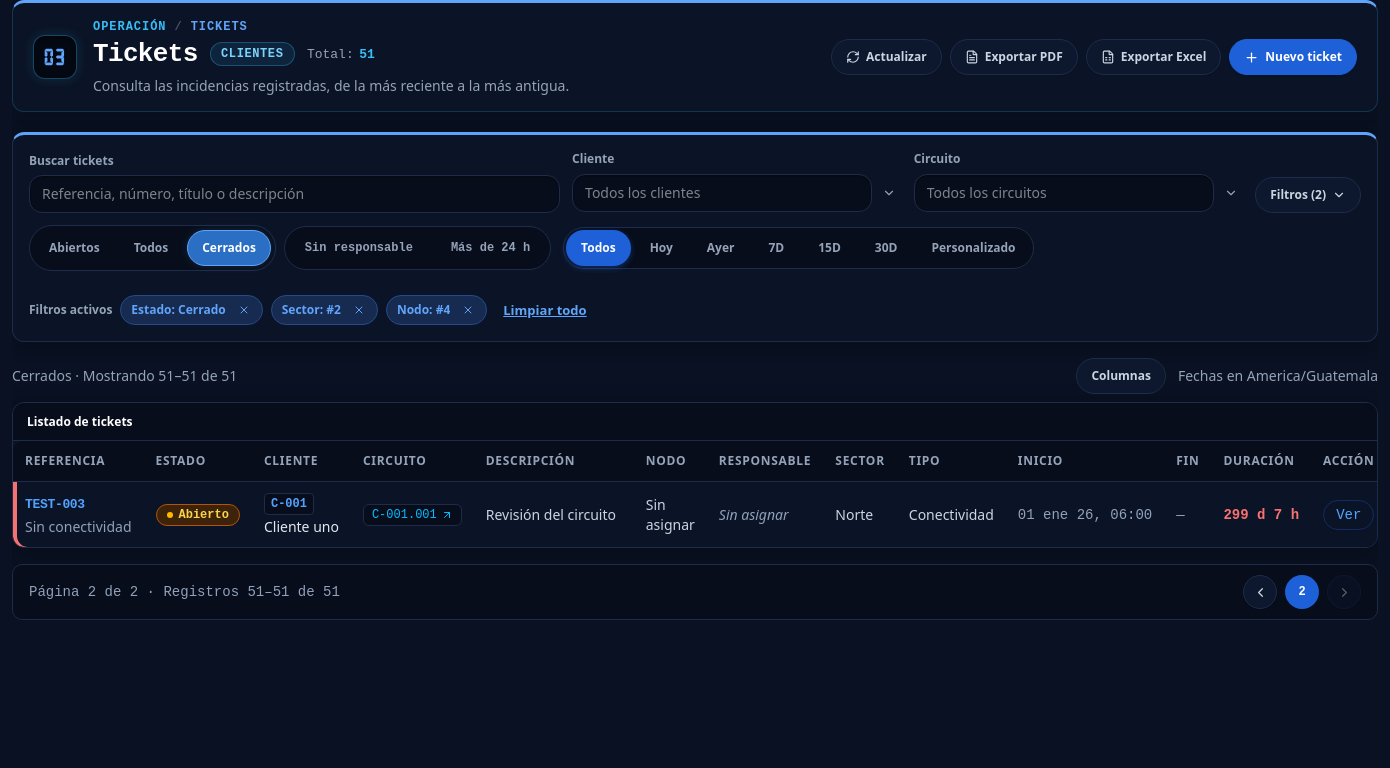
Test case: barra de filtros: chips, limpieza y navegación › «Limpiar todo» funciona con el panel cerrado, deja una sola acción y reinicia la paginación
Check: the table is shown, box [13,403,1377,547]
Click the button "Limpiar todo" at [545, 310], box [495,296,595,324]
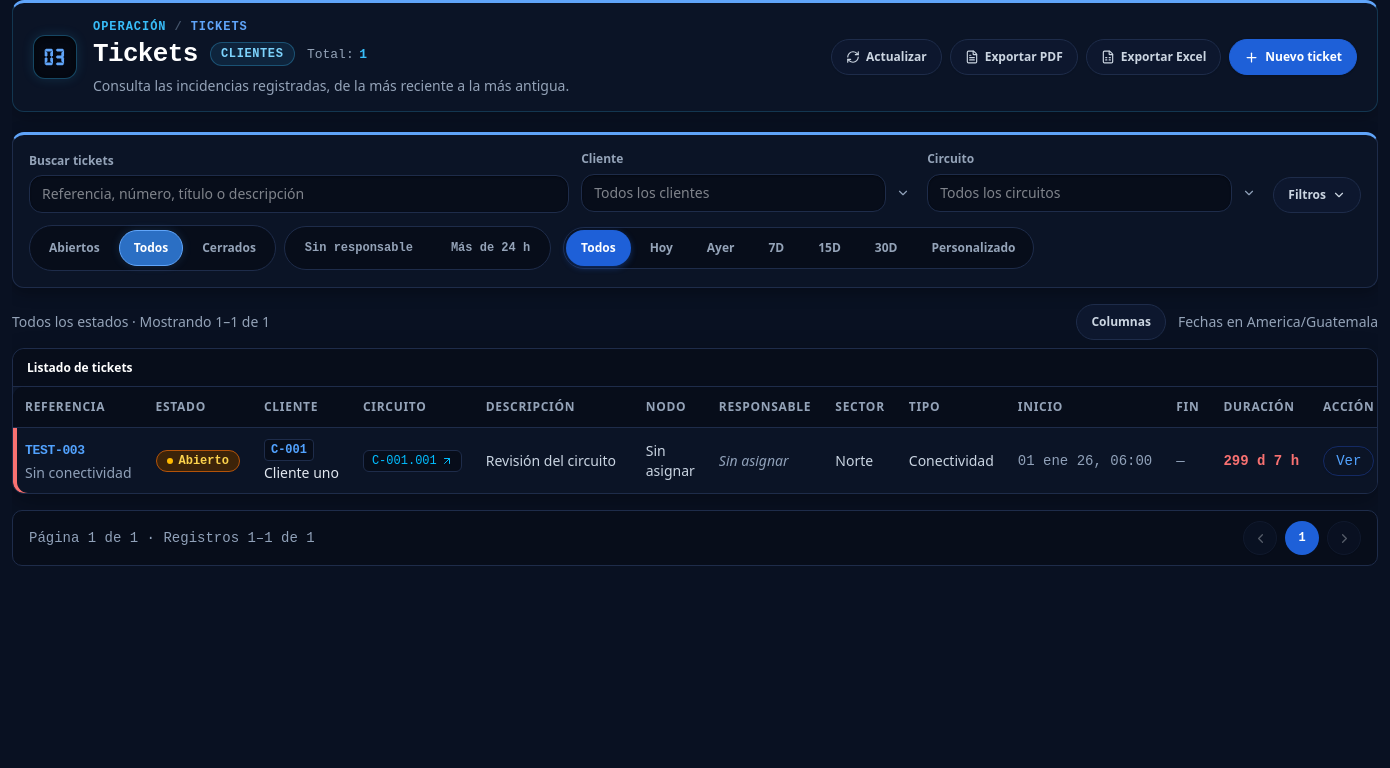
Check: the button "Filtros" is shown, box [1273,177,1361,213]
Check: the button "Limpiar" is gone
